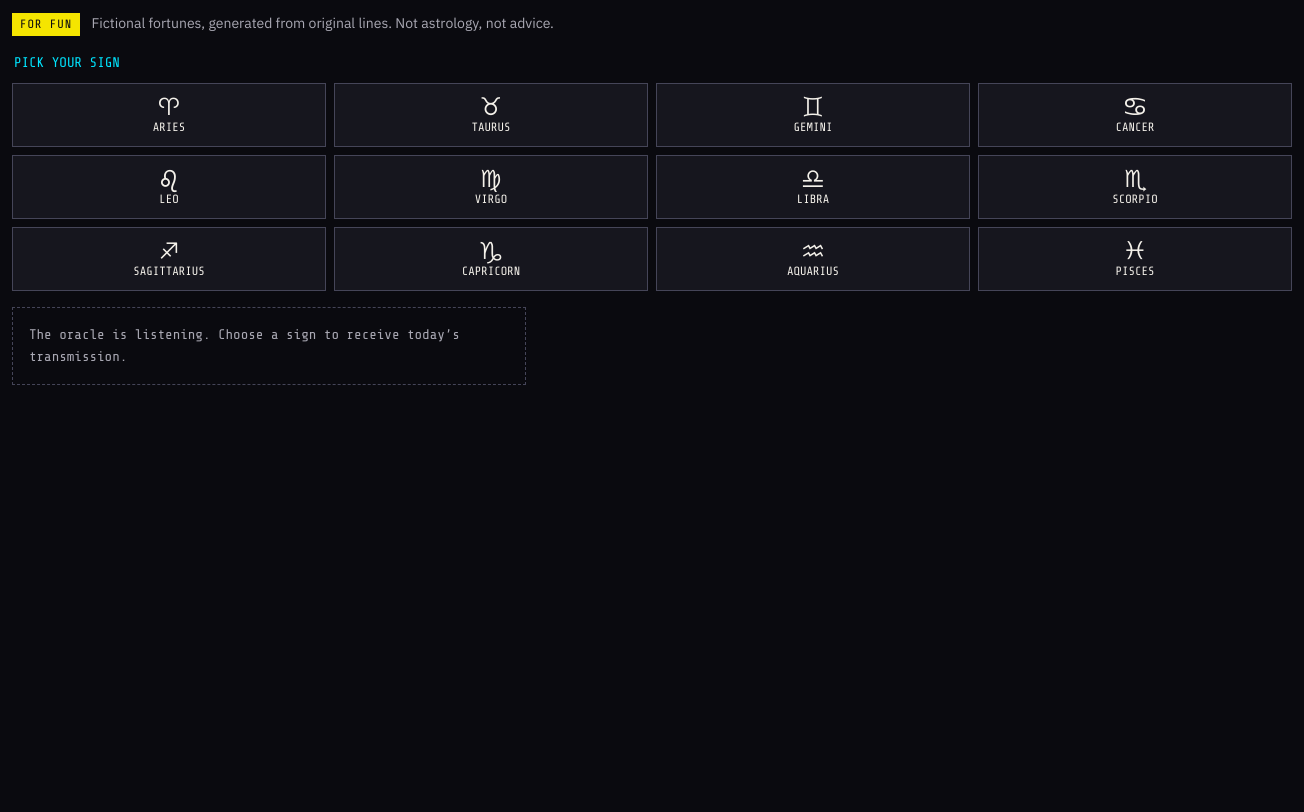
Scenario: Cyber-oracle › is badged as fiction and remembers the chosen sign
Expected: the text "Fictional fortunes" is shown, [88,14,554,32]
Click the button "Leo" at (169, 187), box [12,155,326,219]
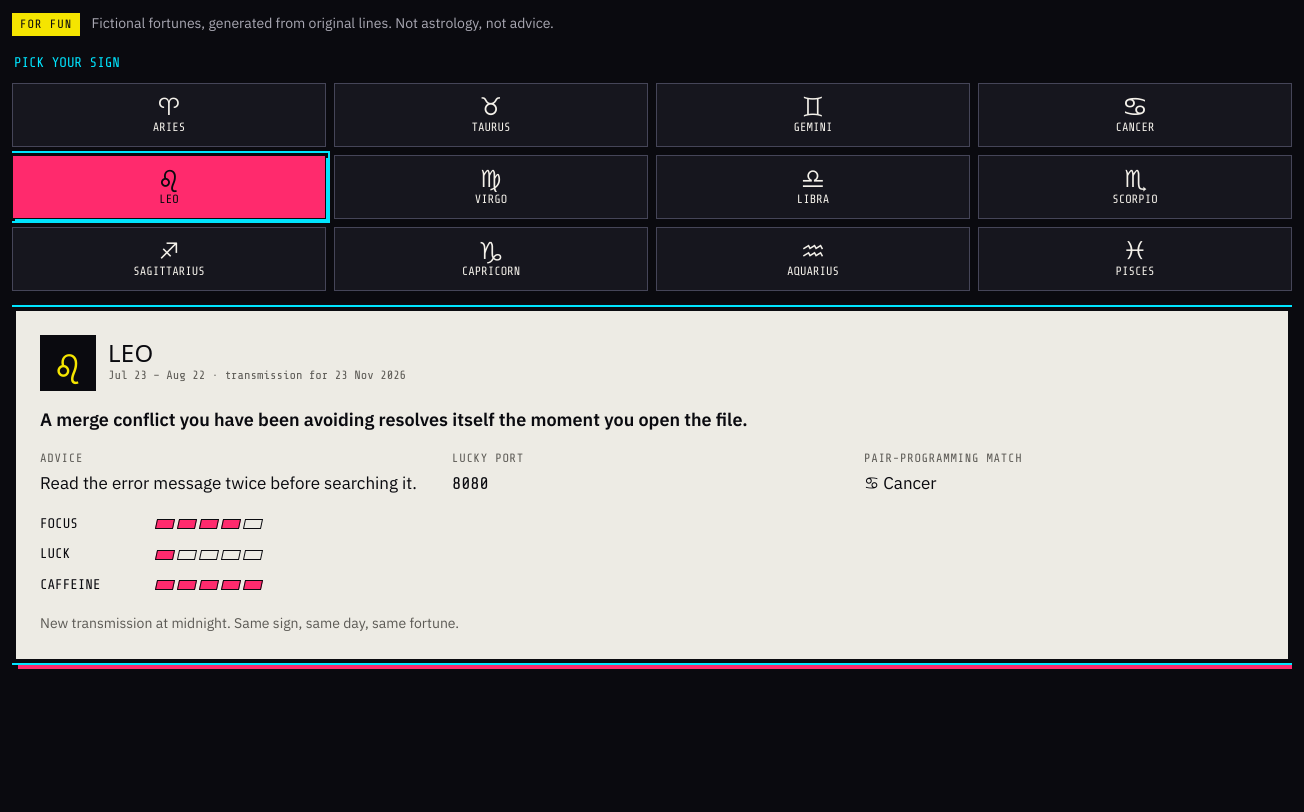
Now the heading "Leo" is shown, box [108,336,153,369]
